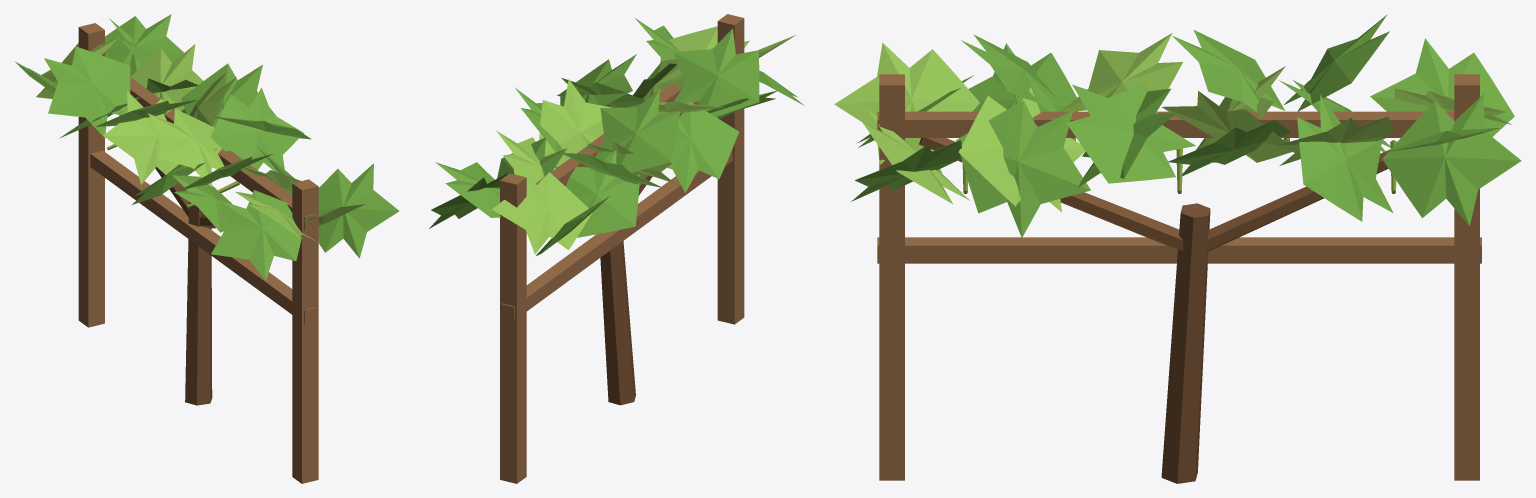
Rendered from GrapeVine.fbx.
3 views of the same model, side by side, from view 1: azimuth 30°, elevation 25°; view 2: azimuth 150°, elevation 25°; view 3: azimuth 270°, elevation 25° (orthographic). The views are drawn at different scales.
Visible parts, largest first — view 1: Vine_Support_Left, Vine_Support_Right, Vine_Leaf_18, Vine_Support_Crossbar, Vine_Trunk, Vine_Leaf_02, Vine_Leaf_03, Vine_Leaf_11, Vine_Leaf_10, Vine_Leaf_16, Vine_Leaf_23, Vine_Leaf_19 (+12 smaller); view 2: Vine_Support_Right, Vine_Support_Left, Vine_Leaf_08, Vine_Leaf_14, Vine_Support_Crossbar, Vine_Trunk, Vine_Leaf_22, Vine_Leaf_12, Vine_Leaf_20, Vine_Leaf_13, Vine_Leaf_23, Vine_Leaf_09 (+15 smaller); view 3: Vine_Support_Crossbar, Vine_Support_Left, Vine_Trunk, Vine_Leaf_21, Vine_Support_Right, Vine_Leaf_05, Vine_Leaf_09, Vine_Leaf_17, Vine_Support_Crossbar.001, Vine_Leaf_04, Vine_Leaf_24, Vine_Leaf_10 (+16 smaller).
Boxes of the visible parts, <box> form: Vine_Support_Left: <box>292,179,318,483</box>; Vine_Support_Right: <box>78,23,104,327</box>; Vine_Leaf_18: <box>44,46,130,137</box>; Vine_Support_Crossbar: <box>90,150,317,323</box>; Vine_Trunk: <box>185,202,212,405</box>; Vine_Leaf_02: <box>211,190,301,280</box>; Vine_Leaf_03: <box>318,163,399,258</box>; Vine_Leaf_11: <box>210,88,303,172</box>; Vine_Leaf_10: <box>148,109,223,186</box>; Vine_Leaf_16: <box>103,91,178,184</box>; Vine_Leaf_23: <box>105,14,184,76</box>; Vine_Leaf_19: <box>130,44,203,111</box>; Vine_Support_Right: <box>500,173,526,483</box>; Vine_Support_Left: <box>717,14,744,324</box>; Vine_Leaf_08: <box>674,28,759,116</box>; Vine_Leaf_14: <box>595,89,680,172</box>; Vine_Support_Crossbar: <box>501,149,732,320</box>; Vine_Trunk: <box>600,241,635,405</box>; Vine_Leaf_22: <box>492,166,592,253</box>; Vine_Leaf_12: <box>658,101,738,192</box>; Vine_Leaf_20: <box>555,150,639,237</box>; Vine_Leaf_13: <box>539,79,612,165</box>; Vine_Leaf_23: <box>435,162,500,217</box>; Vine_Leaf_09: <box>560,54,636,106</box>; Vine_Support_Crossbar: <box>877,237,1481,263</box>; Vine_Support_Left: <box>879,74,904,480</box>; Vine_Trunk: <box>1161,203,1210,483</box>; Vine_Leaf_21: <box>1382,94,1521,226</box>; Vine_Support_Right: <box>1454,74,1479,480</box>; Vine_Leaf_05: <box>956,100,1090,237</box>; Vine_Leaf_09: <box>1066,82,1195,183</box>; Vine_Leaf_17: <box>1297,95,1393,221</box>; Vine_Support_Crossbar.001: <box>877,111,1454,137</box>; Vine_Leaf_04: <box>834,42,979,164</box>; Vine_Leaf_24: <box>1370,38,1514,136</box>; Vine_Leaf_10: <box>1061,33,1182,111</box>.
Bounding box in the file's own units: 1.43 × 2.33 × 3.47.
